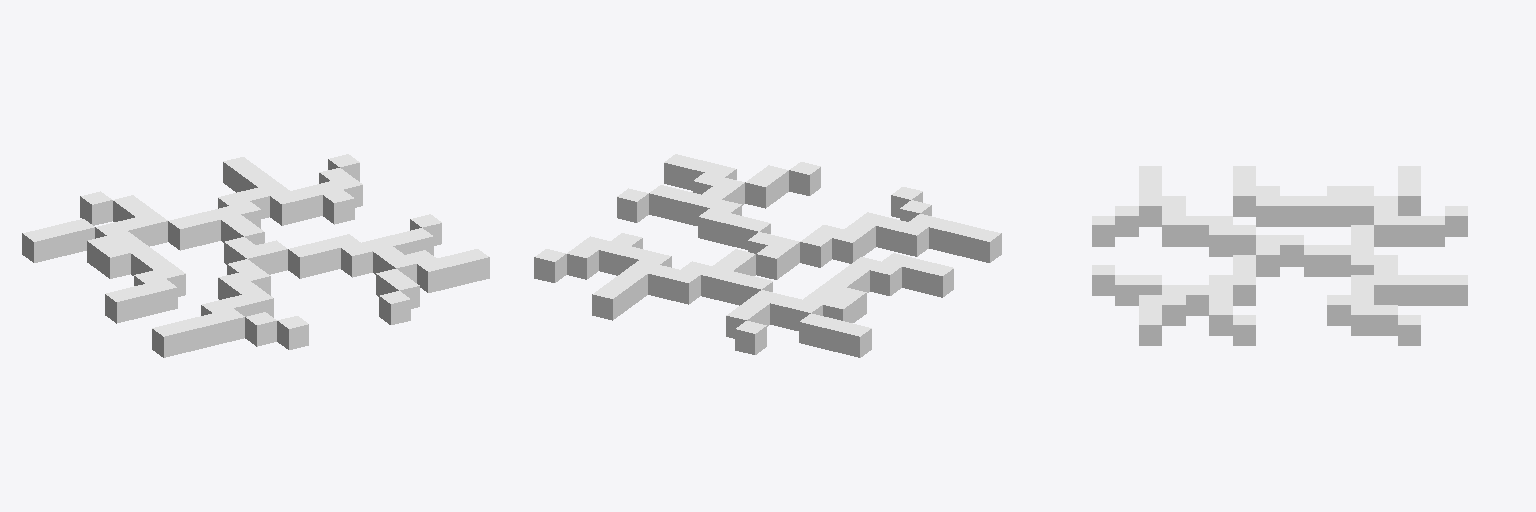
The model's file is deco_5.obj.
The picture shows the model from 3 angles: view 1: azimuth 30°, elevation 25°; view 2: azimuth 150°, elevation 25°; view 3: azimuth 270°, elevation 25°; orthographic projection.
Size of the model in its own units: 16 by 1 by 16.